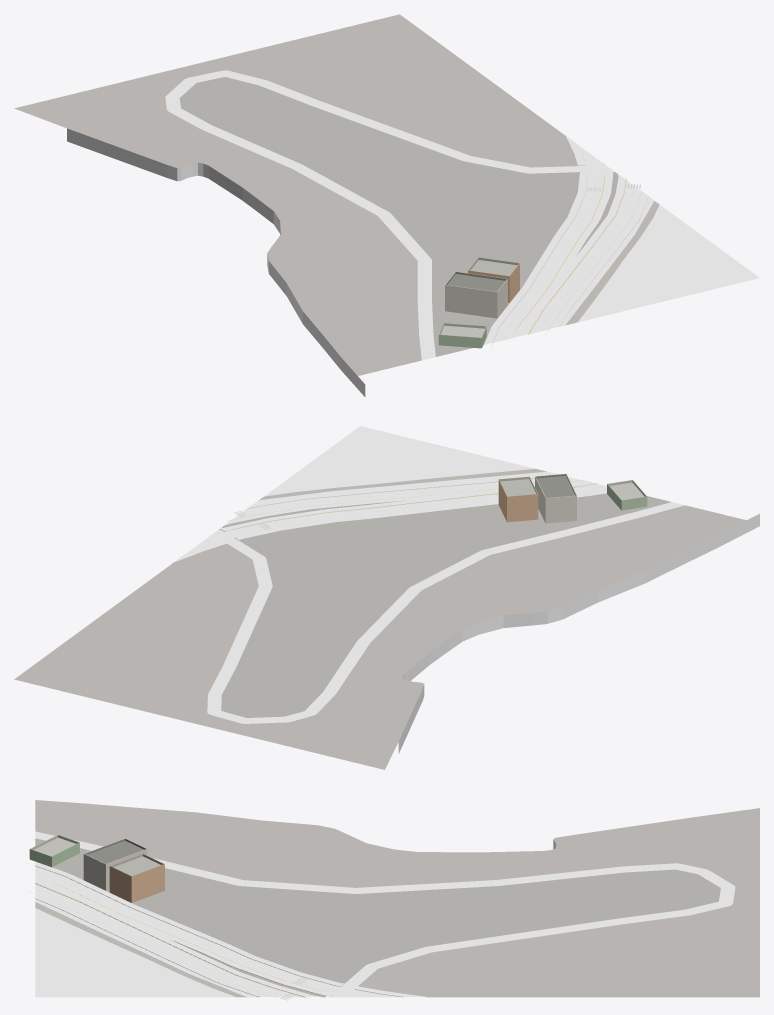
3 renders of one model, top to bottom at view 1: azimuth 30°, elevation 25°; view 2: azimuth 150°, elevation 25°; view 3: azimuth 270°, elevation 25°, orthographic. The views are drawn at different scales.
Parts seen in each view (by area): view 1: ground, asphalt, grass, sidewalk, coast, walls, roofs, concrete, markings; view 2: ground, asphalt, grass, coast, sidewalk, walls, roofs, concrete, markings; view 3: ground, asphalt, grass, sidewalk, walls, roofs, concrete, markings.
Part boxes in pixels (bbox=[...]): ground: bbox=[14, 14, 659, 375]; asphalt: bbox=[165, 70, 759, 360]; grass: bbox=[578, 205, 753, 322]; sidewalk: bbox=[484, 135, 648, 344]; coast: bbox=[67, 128, 365, 396]; walls: bbox=[438, 264, 519, 348]; roofs: bbox=[439, 257, 519, 337]; concrete: bbox=[559, 196, 653, 326]; markings: bbox=[490, 153, 641, 349]; ground: bbox=[14, 469, 746, 769]; asphalt: bbox=[186, 426, 684, 723]; grass: bbox=[264, 430, 535, 496]; coast: bbox=[398, 513, 759, 753]; sidewalk: bbox=[173, 472, 606, 562]; walls: bbox=[498, 477, 647, 523]; roofs: bbox=[499, 473, 646, 500]; concrete: bbox=[254, 471, 551, 503]; markings: bbox=[205, 473, 603, 546]; ground: bbox=[35, 800, 759, 997]; asphalt: bbox=[35, 831, 735, 997]; grass: bbox=[35, 908, 235, 997]; sidewalk: bbox=[35, 861, 425, 997]; walls: bbox=[29, 842, 164, 902]; roofs: bbox=[30, 835, 164, 876]; concrete: bbox=[35, 899, 258, 997]; markings: bbox=[23, 862, 380, 1000].
Size of what is drawn, in the model's own units: 165 by 15.17 by 257.
